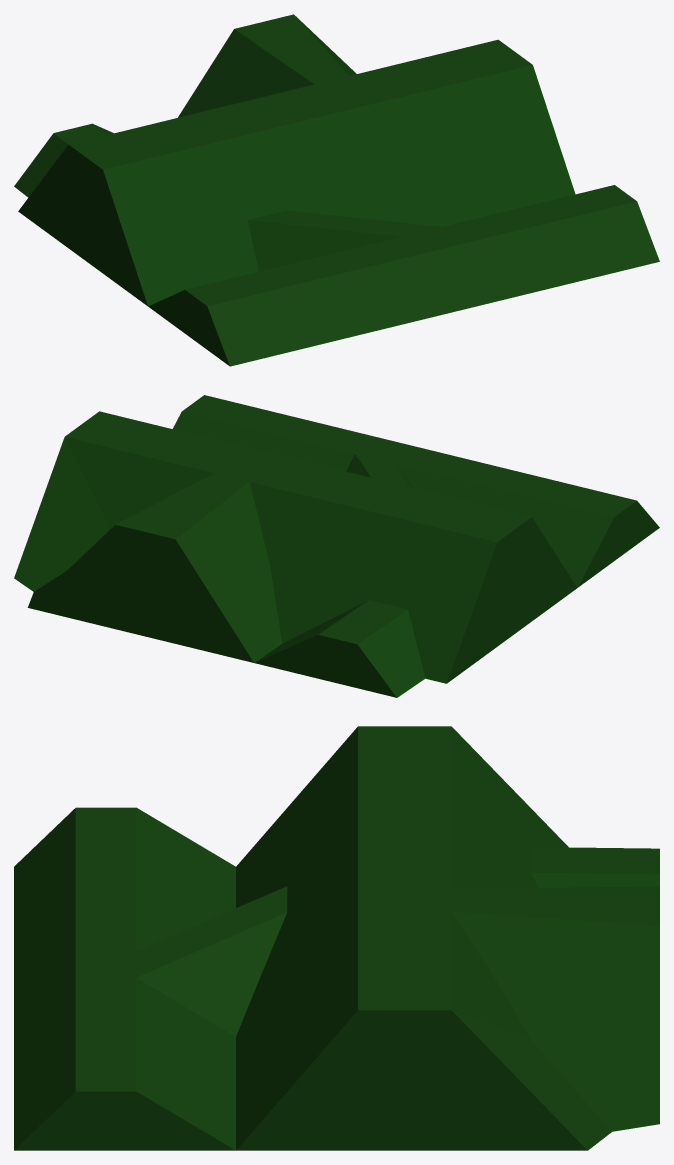
The model's file is Wall - Motte.fbx.
The picture shows the model from 3 angles, top to bottom: view 1: azimuth 30°, elevation 25°; view 2: azimuth 150°, elevation 25°; view 3: azimuth 270°, elevation 25°; orthographic projection. The views are drawn at different scales.
Visible parts, largest first — view 1: Rampart_011, Ditch_Wall_010, Ditch_Wall_009, Rampart_010; view 2: Rampart_011, Rampart_010, Ditch_Wall_010, Ditch_Wall_009; view 3: Rampart_011, Ditch_Wall_010, Rampart_010, Ditch_Wall_009.
Boxes of the visible parts, x1,y1,x2,y2 form: Rampart_011: (18, 40, 575, 306); Ditch_Wall_010: (148, 185, 659, 366); Ditch_Wall_009: (14, 123, 659, 299); Rampart_010: (178, 14, 529, 117); Rampart_011: (65, 411, 576, 683); Rampart_010: (14, 412, 282, 662); Ditch_Wall_010: (173, 395, 659, 587); Ditch_Wall_009: (174, 395, 425, 697); Rampart_011: (236, 726, 587, 1150); Ditch_Wall_010: (14, 807, 235, 1150); Rampart_010: (358, 886, 659, 1150); Ditch_Wall_009: (14, 847, 659, 1150).
Bounding box in the file's own units: 9.99 × 2.31 × 9.61.
